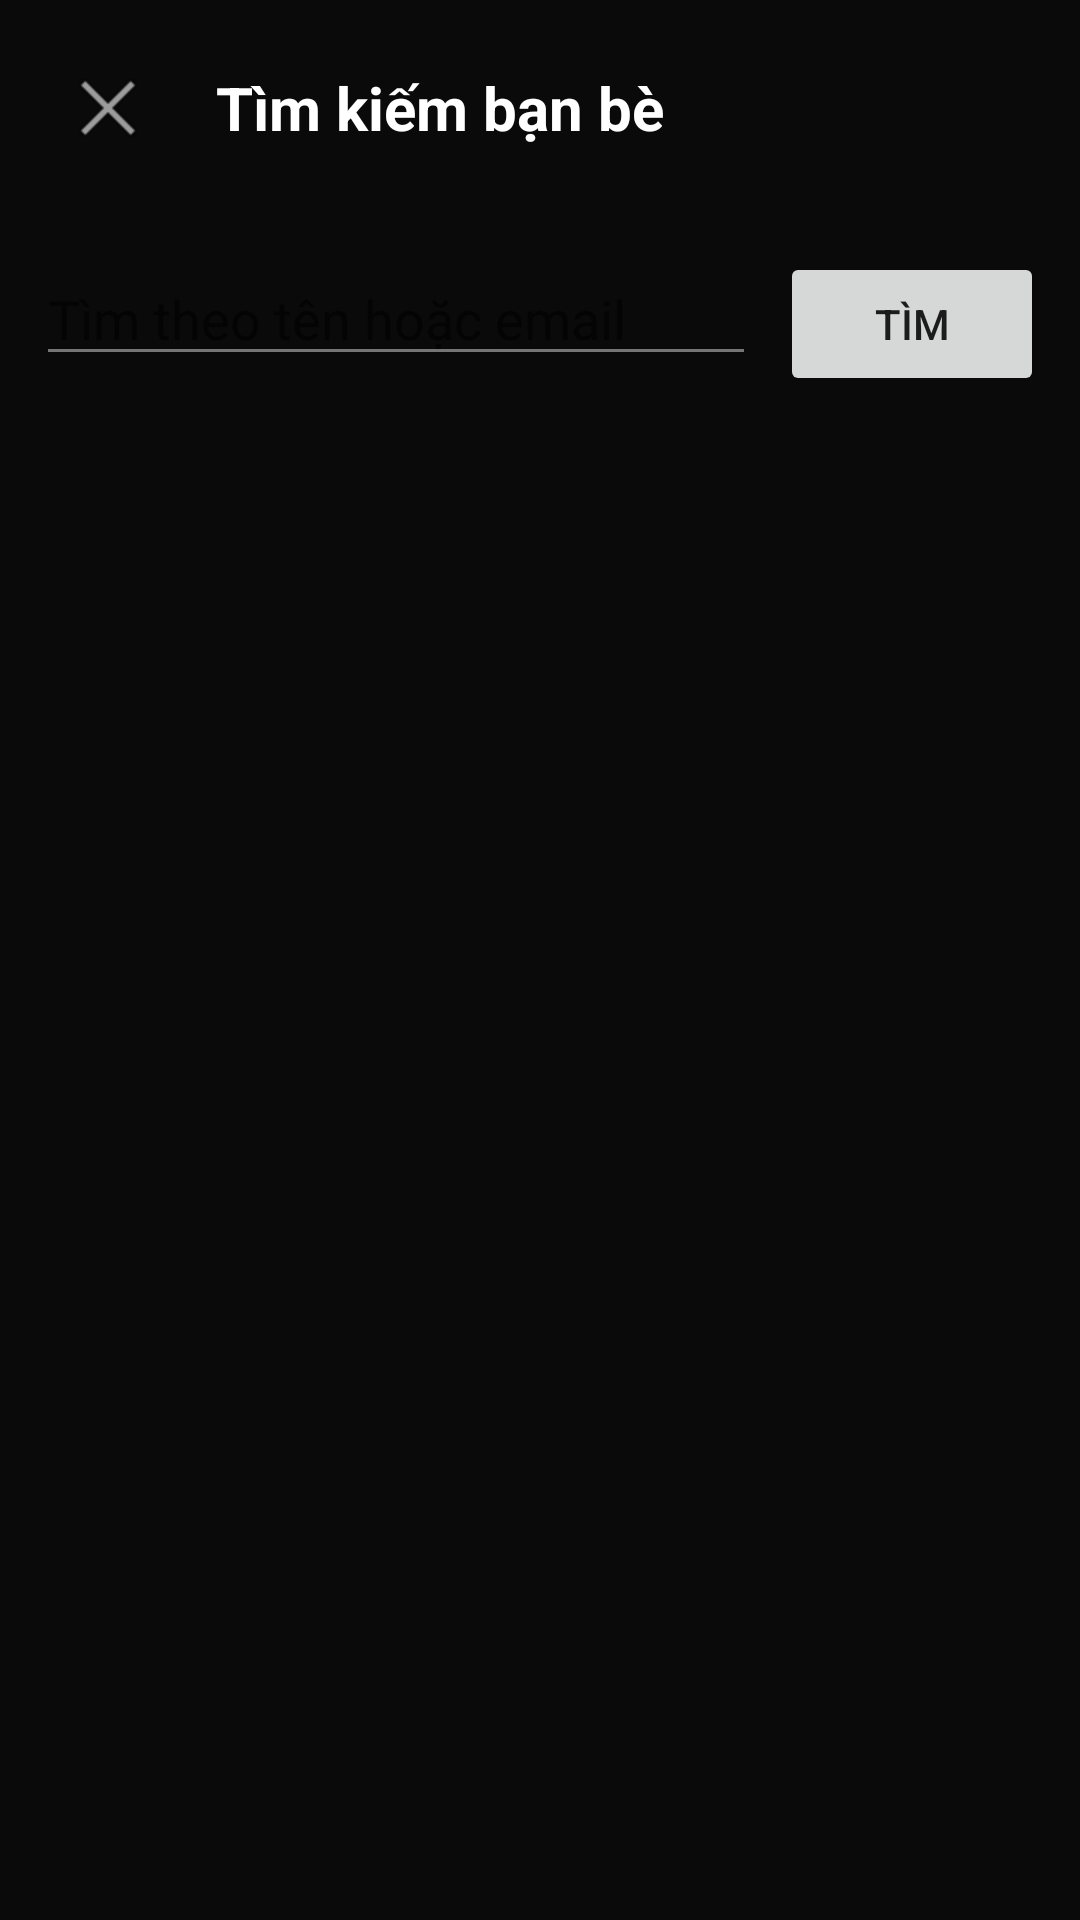

Where icons sit on this 1080x1920 app screen, as (x1, y1, x2, y2):
close clear cancel: (81, 81, 135, 135)
